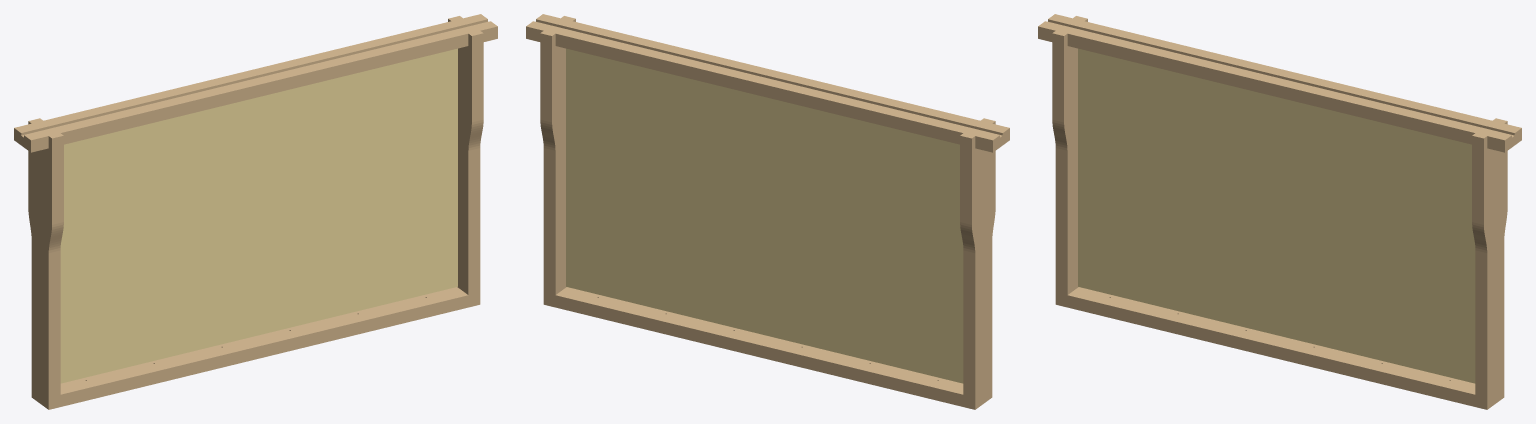
File: lagnormal.glb
3 renders of one model, left to right at view 1: azimuth 30°, elevation 25°; view 2: azimuth 150°, elevation 25°; view 3: azimuth 330°, elevation 25°, orthographic.
Visible parts, largest first — view 1: Mellanvagg, Overlist, Underlist, Sidolist_V, Sidolist_H; view 2: Mellanvagg, Overlist, Underlist, Sidolist_V, Sidolist_H; view 3: Mellanvagg, Overlist, Underlist, Sidolist_H, Sidolist_V.
Part boxes in pixels (x1,y1,x2,y2): Mellanvagg: [60, 48, 457, 383]; Overlist: [14, 14, 497, 152]; Underlist: [31, 287, 480, 409]; Sidolist_V: [28, 118, 63, 405]; Sidolist_H: [448, 16, 483, 294]; Mellanvagg: [566, 48, 963, 383]; Overlist: [526, 14, 1009, 152]; Underlist: [543, 287, 992, 409]; Sidolist_V: [960, 118, 995, 405]; Sidolist_H: [540, 16, 575, 294]; Mellanvagg: [1078, 48, 1475, 383]; Overlist: [1038, 14, 1521, 152]; Underlist: [1055, 287, 1504, 409]; Sidolist_H: [1472, 118, 1507, 405]; Sidolist_V: [1052, 16, 1087, 294].
Bounding box in the file's own units: 396 × 222 × 35.
